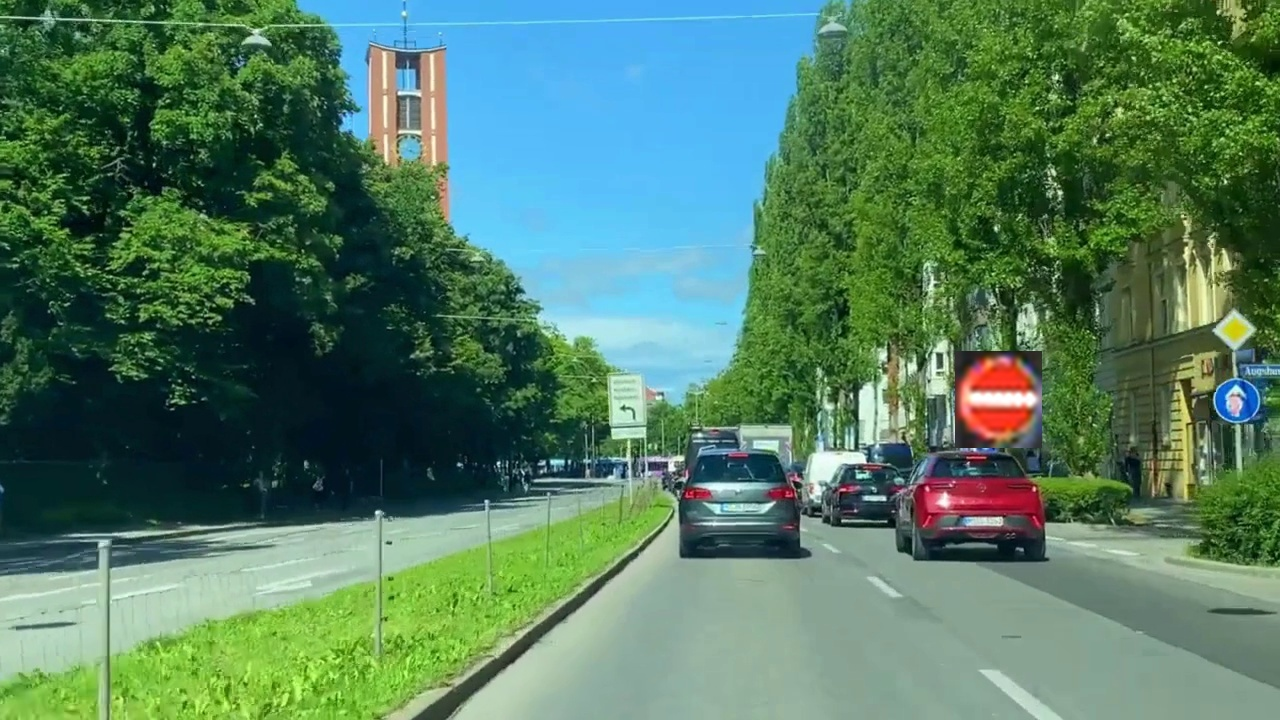No entry: (955, 351, 1042, 448)
